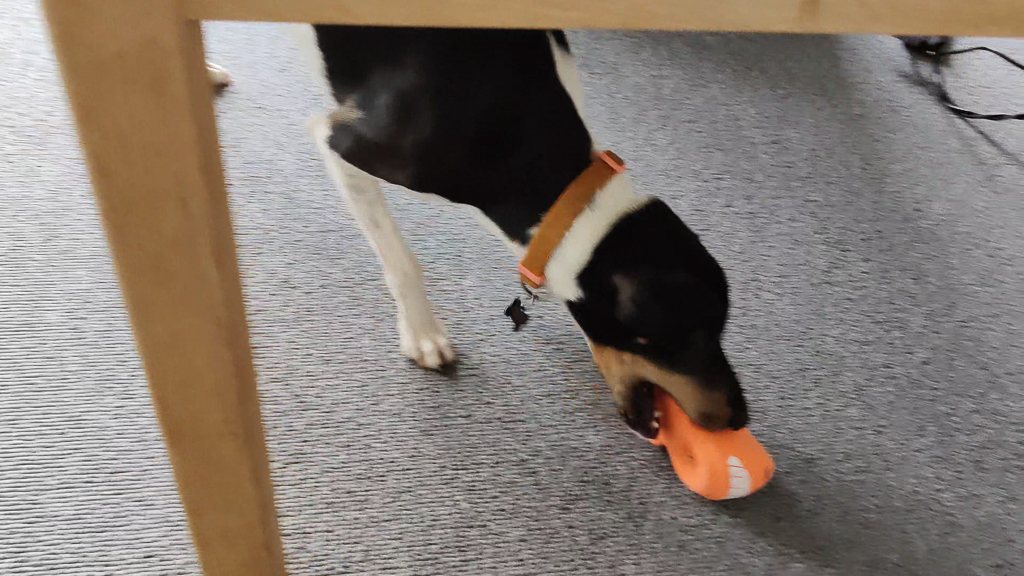Dog: (196, 6, 772, 447)
